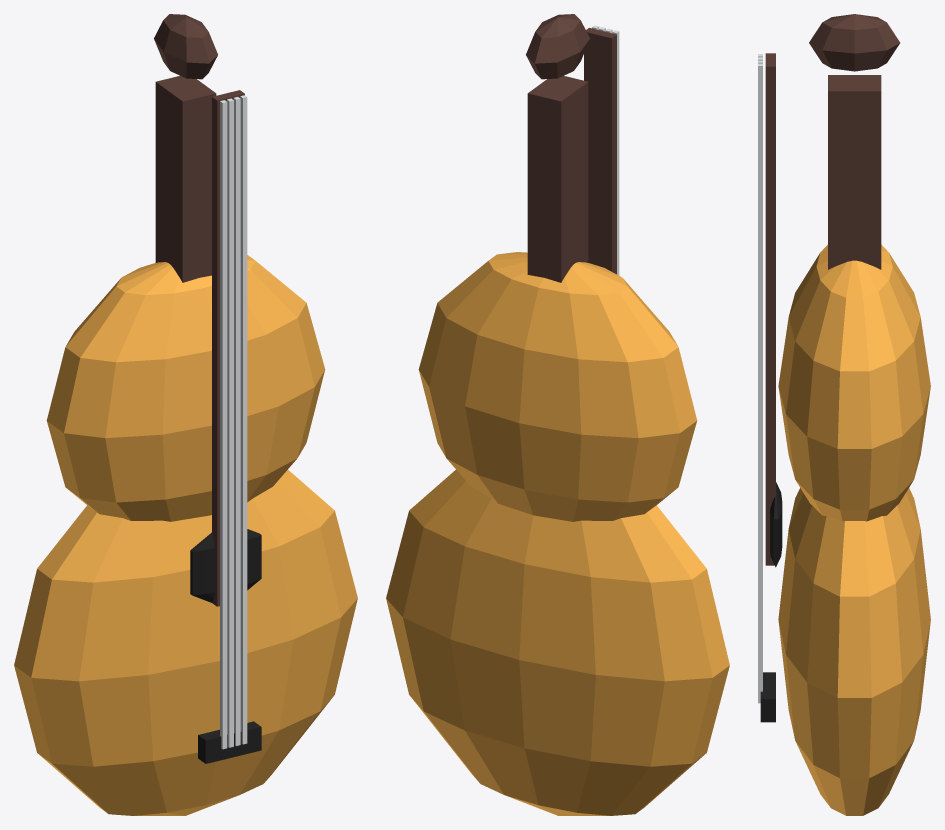
File: ukulele.glb
3 views of the same model, side by side, from view 1: azimuth 30°, elevation 25°; view 2: azimuth 150°, elevation 25°; view 3: azimuth 270°, elevation 25° (orthographic).
Visible parts, largest first — view 1: ukulele; view 2: ukulele; view 3: ukulele.
Boxes of the visible parts, x1,y1,x2,y2 form: ukulele: (14, 14, 357, 815); ukulele: (386, 14, 729, 815); ukulele: (758, 14, 930, 815).
Size of the model in its own units: 0.2925 by 0.683 by 0.136.
